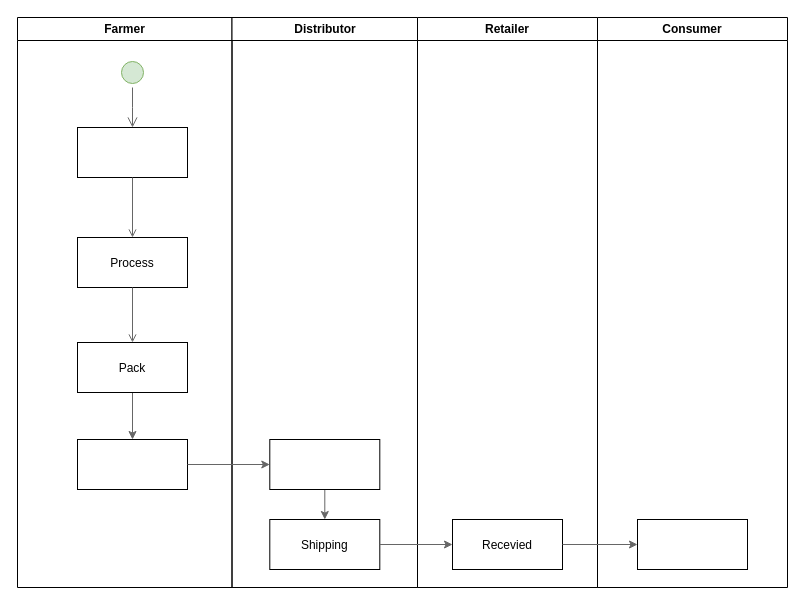
Image size: 805x605. Some labels were removed from this diagram. The shapes that lost their labels are listed below. From the top down, each one's centre as x and y in pixels, then its label:
At (132,152): "Harvest".
At (132,464): "Sell".
At (324,464): "Buy".
At (692,544): "Purchase".
